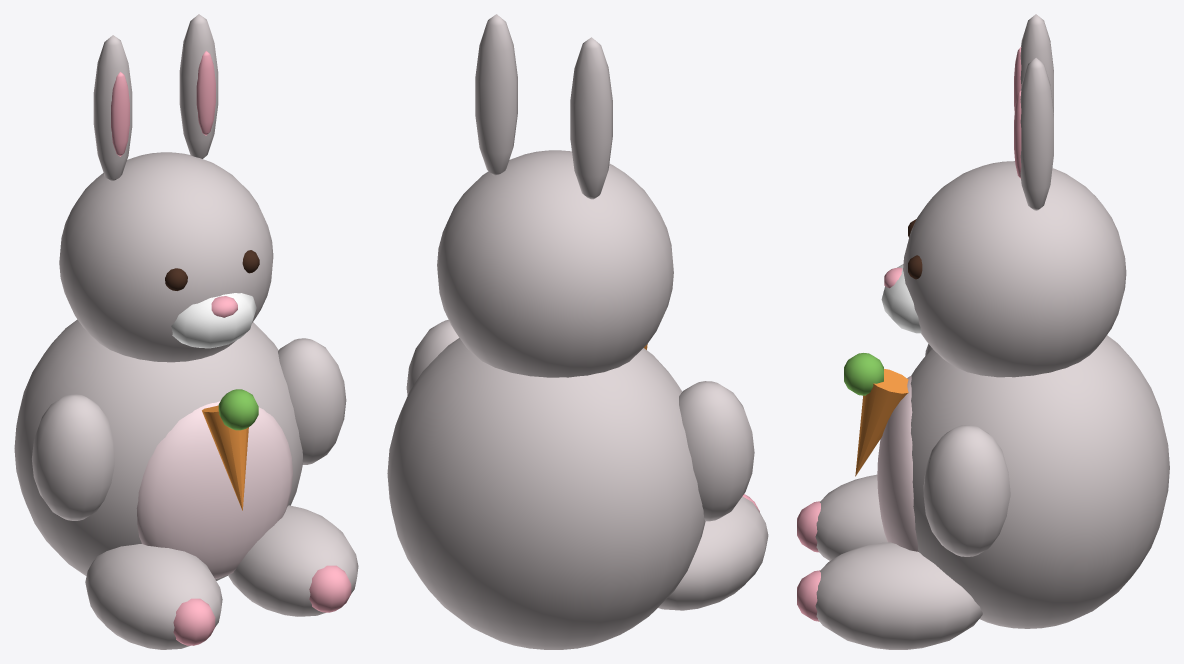
The model's file is plushie-bunny.glb.
3 views of the same model, side by side, from view 1: azimuth 30°, elevation 25°; view 2: azimuth 150°, elevation 25°; view 3: azimuth 270°, elevation 25° (orthographic). The views are drawn at different scales.
Bounding box in the file's own units: 0.848 × 1.49 × 0.8668.
